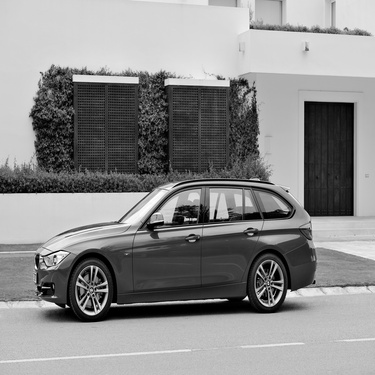car: (21, 165, 323, 324)
